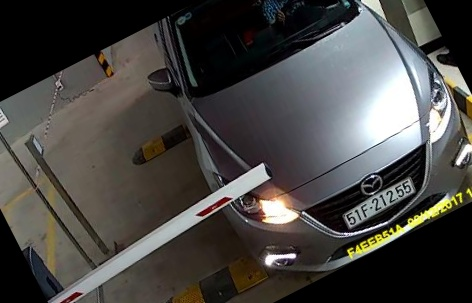plate: (333, 171, 415, 233)
